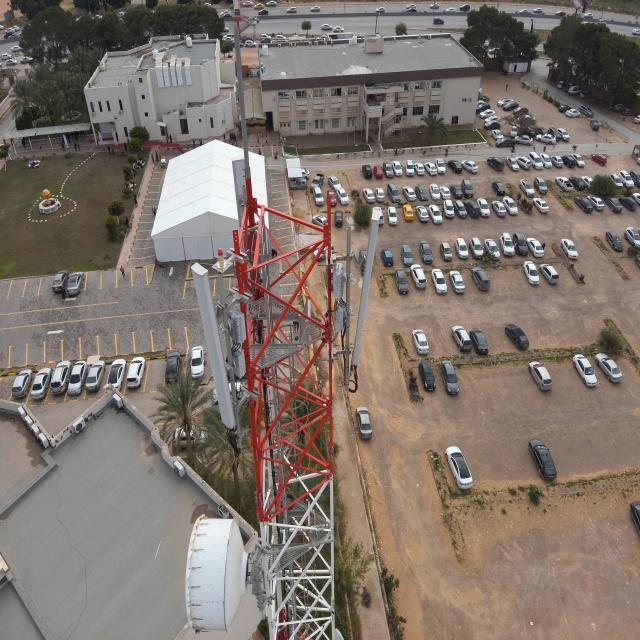Ground Based: (194, 35, 382, 640)
